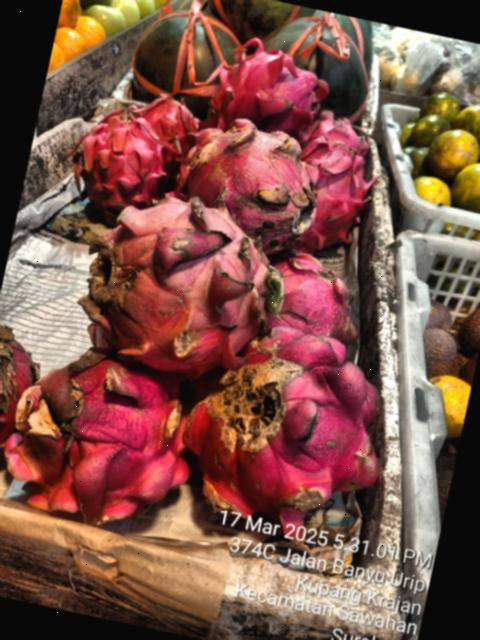buah-naga-belum-matang: (68, 178, 286, 382)
buah-naga-matang: (0, 320, 217, 556), (175, 315, 396, 541), (171, 114, 336, 245), (197, 20, 351, 154), (258, 237, 386, 358), (57, 106, 182, 215), (288, 133, 374, 247), (132, 86, 200, 152)
